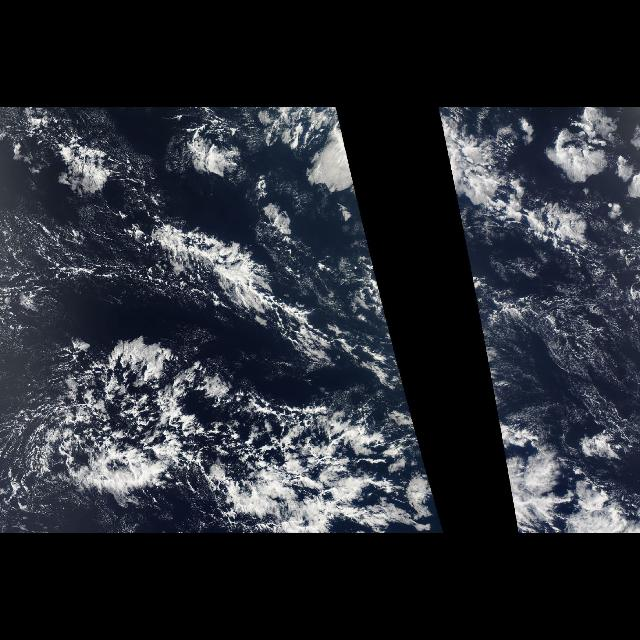Fish: (46, 181, 378, 513)
Sugar: (476, 252, 640, 452)
